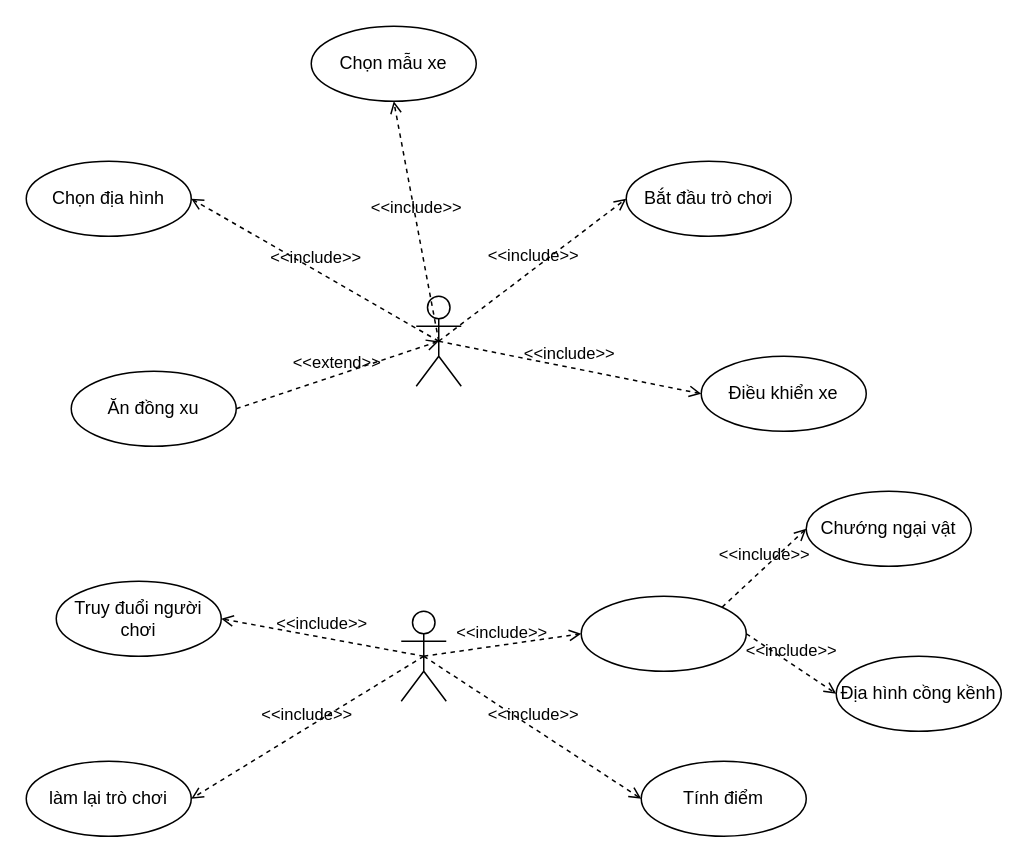
This 1028x863 diagram has some shape labels left out. Here are the shapes that lost their labels. From the top down, the box of each, then its label:
(415, 295, 461, 386): Người chơi
(580, 595, 746, 671): Địa hình cản trở
(400, 610, 446, 701): Hệ thống
